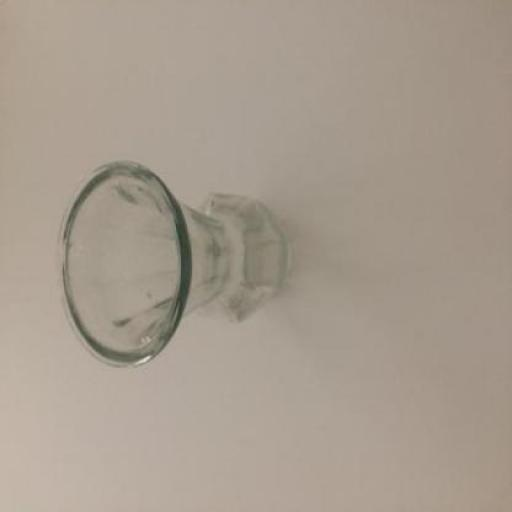glass: (57, 159, 291, 368)
